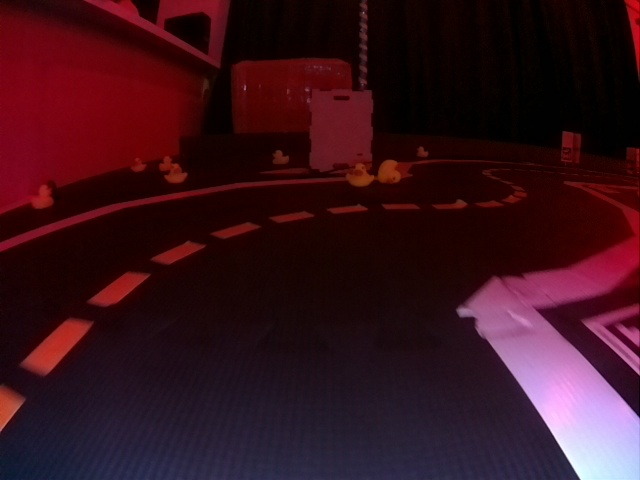Duckie: (378, 159, 401, 184), (347, 164, 371, 187), (32, 185, 54, 209), (165, 167, 188, 183), (272, 151, 289, 163), (131, 158, 146, 171), (160, 157, 173, 170), (418, 147, 428, 156)
